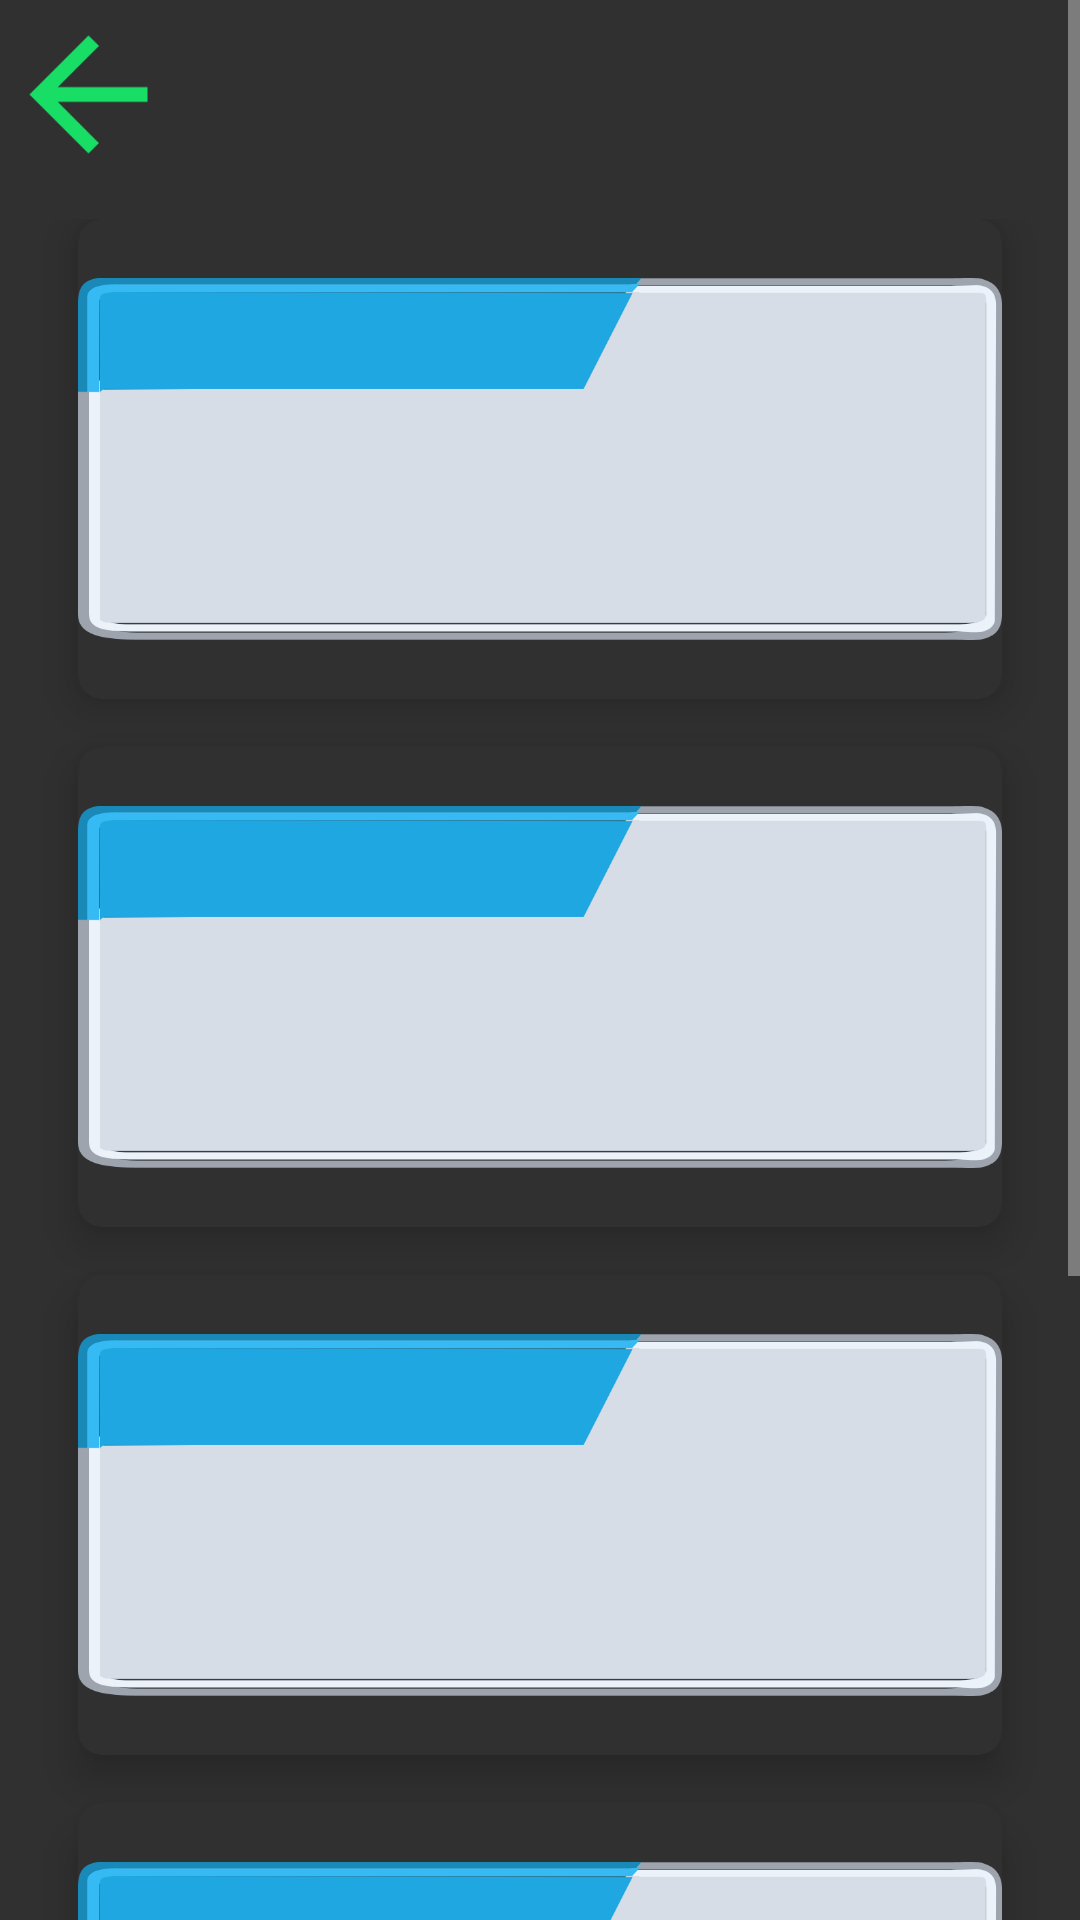

Point at icon controls on the screen. Image size 1080×1920, points as (x=x, y=y).
voltar: (x=88, y=94)
